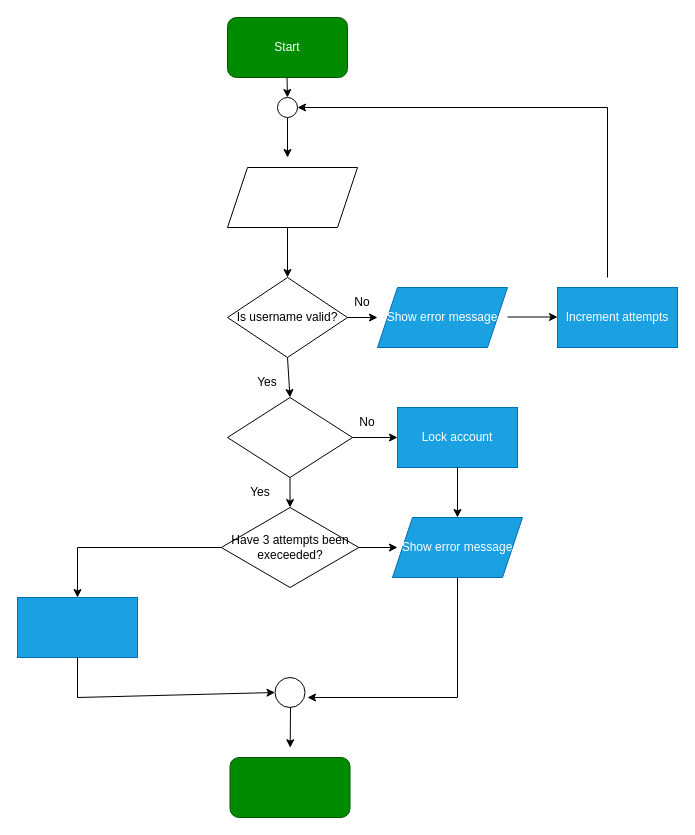
The diagram is 695 pixels wide and 835 high, and some of its shapes have lost their labels. The box of each missing label's shape, as (x1, y1, x2, y2) in pixels:
End: (229, 756, 350, 818)
Enter username and password: (226, 166, 358, 228)
Is password correct?: (226, 396, 352, 478)
Reset error message: (16, 596, 138, 658)
